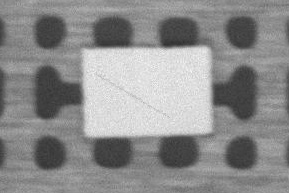DIE_CRACK: (144, 49, 253, 78)
